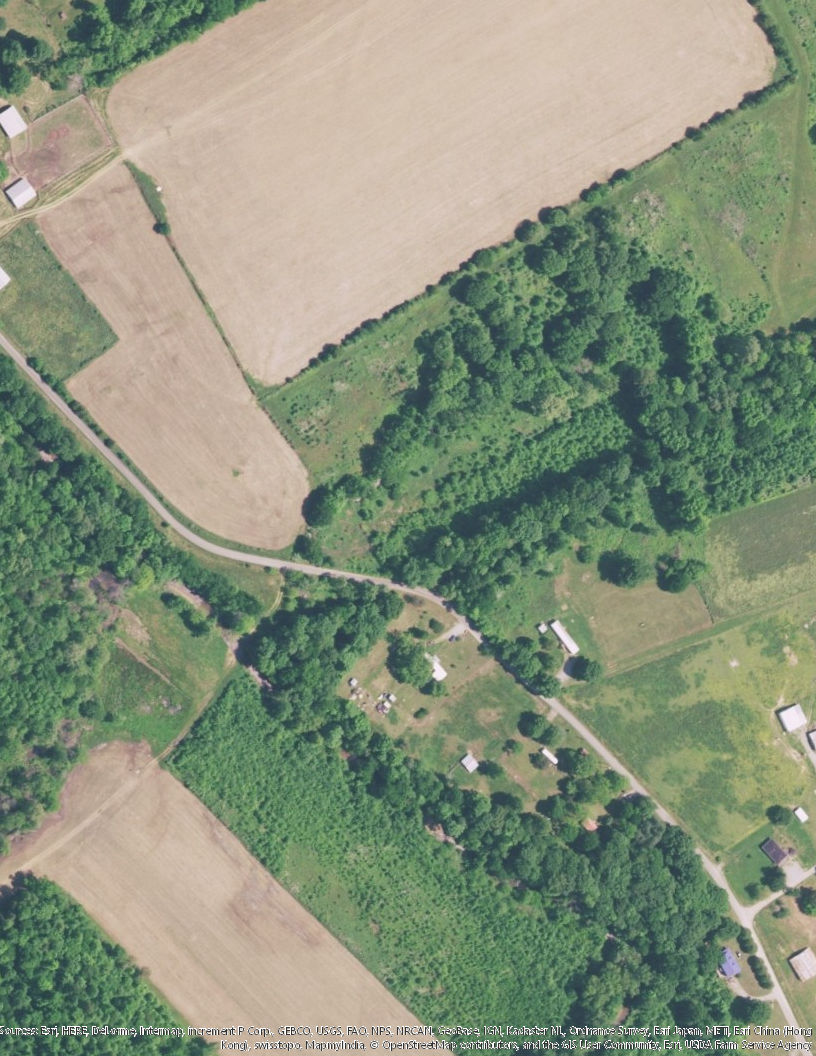cafo: (545, 616, 581, 658)
